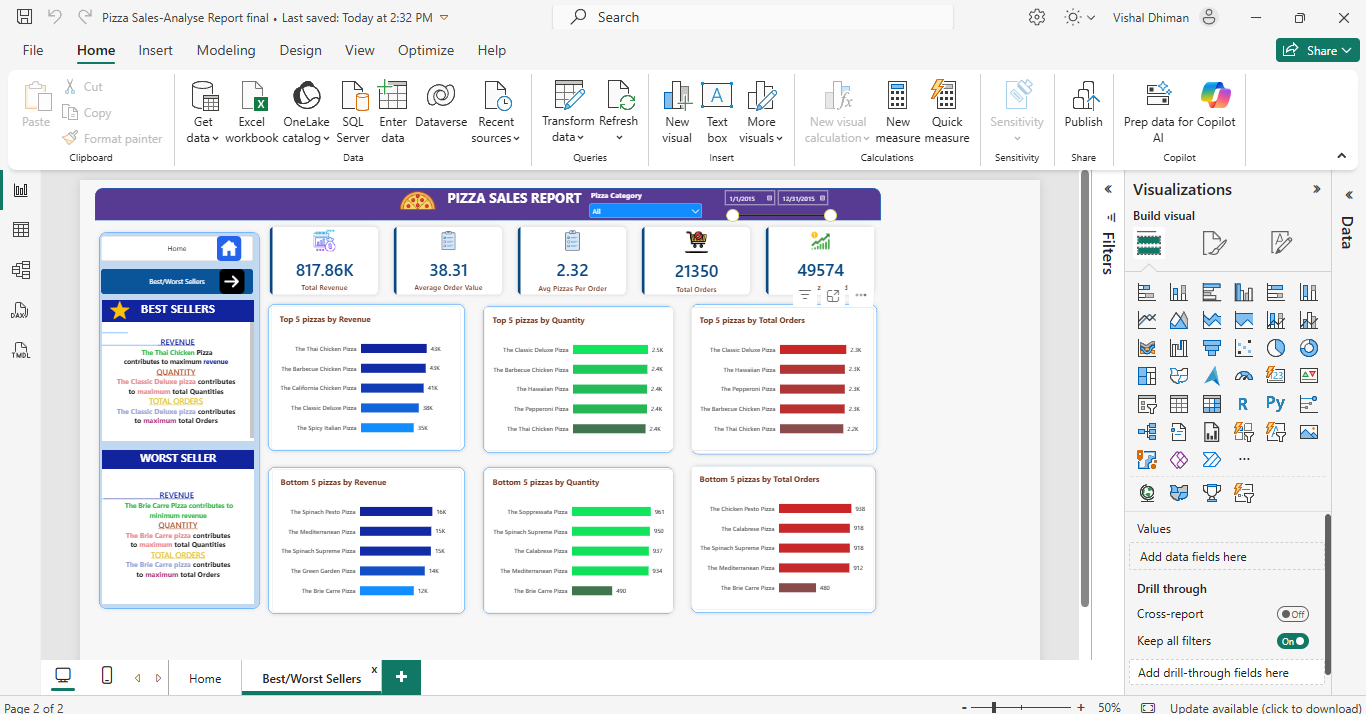

Layout of this report page (visuals, bound fields, positions):
{"tool":"powerbi","page":{"name":"Best/Worst Sellers","canvas":[1920,1080],"ordinal":1},"visuals":[{"type":"shape","box":[30,96,338.3,770],"z":0},{"type":"cardVisual","fields":{"Data":["pizza_sales.Total Revenue","pizza_sales.Average Order Value","pizza_sales.Avg Pizzas Per Order","pizza_sales.Total Orers","pizza_sales.Total Pizza Sold"]},"box":[368.3,81.7,1232.9,159],"z":1000},{"type":"shape","box":[30,16.7,1571.7,65],"z":2000},{"type":"textbox","box":[723.3,16.7,290,56.7],"z":3000},{"type":"image","box":[628.3,0,94.8,81.6],"z":4000},{"type":"shape","box":[368.3,240,410,310],"z":5000},{"type":"shape","box":[1213.3,240,388.3,316.7],"z":6000},{"type":"shape","box":[368.6,565.7,410,310],"z":7000},{"type":"shape","box":[798,566,397.1,310],"z":8000},{"type":"shape","box":[1214,564,386.2,310],"z":9000},{"type":"textbox","box":[44,240,304,44],"z":10000},{"type":"textbox","box":[44,284,304,238],"z":11000},{"type":"textbox","box":[44,540,304,38],"z":12000},{"type":"textbox","box":[44,578,304,270],"z":13000},{"type":"slicer","fields":{"Values":["pizza_sales.pizza_category"]},"box":[1013.3,20,235,60],"z":14000},{"type":"slicer","fields":{"Values":["pizza_sales.order_date"]},"box":[1281.7,16.7,235,70],"z":15000},{"type":"shape","box":[798.3,243.3,396.7,310],"z":16000},{"type":"barChart","title":"Top 5 pizzas by Revenue","fields":{"Category":["pizza_sales.pizza_name"],"Y":["pizza_sales.Total Revenue"]},"box":[382.9,252.9,378.6,287.1],"z":17000},{"type":"barChart","title":"Bottom 5 pizzas by Revenue","fields":{"Category":["pizza_sales.pizza_name"],"Y":["pizza_sales.Total Revenue"]},"box":[384.3,577.1,378.6,287.1],"z":18000},{"type":"barChart","title":"Top 5 pizzas by Quantity","fields":{"Category":["pizza_sales.pizza_name"],"Y":["pizza_sales.Total Pizzas Sold"]},"box":[807.1,254.3,378.6,287.1],"z":19000},{"type":"barChart","title":"Bottom 5 pizzas by Quantity","fields":{"Category":["pizza_sales.pizza_name"],"Y":["pizza_sales.Total Pizzas Sold"]},"box":[807.1,577.1,378.6,287.1],"z":20000},{"type":"barChart","title":"Top 5 pizzas by Total Orders","fields":{"Category":["pizza_sales.pizza_name"],"Y":["pizza_sales.Total Orders"]},"box":[1222.9,254.3,365.7,287.1],"z":21000},{"type":"barChart","title":"Bottom 5 pizzas by Total Orders","fields":{"Category":["pizza_sales.pizza_name"],"Y":["pizza_sales.Total Orders"]},"box":[1222.9,572.9,365.7,287.1],"z":22000},{"type":"pageNavigator","box":[42.9,177.1,304.3,50],"z":23000},{"type":"pageNavigator","box":[42.9,111.4,304.3,50],"z":24000},{"type":"image","box":[272.9,111.4,52.9,50],"z":25000},{"type":"image","box":[272.9,177.1,64.3,50],"z":26000},{"type":"image","box":[55.7,240,47.1,44.3],"z":27000}]}

Visuals, with their boxes on the page's 1920x1080 design canvas (x1, y1, x2, y2). These are canvas units, not pixel positions in the 1366x714 screenshot, which may show the page scaled, cropped or inside an application window:
shape: [30, 96, 368, 866]
cardVisual - pizza_sales.Total Revenue x pizza_sales.Average Order Value: [368, 82, 1601, 241]
shape: [30, 17, 1602, 82]
textbox: [723, 17, 1013, 73]
image: [628, 0, 723, 82]
shape: [368, 240, 778, 550]
shape: [1213, 240, 1602, 557]
shape: [369, 566, 779, 876]
shape: [798, 566, 1195, 876]
shape: [1214, 564, 1600, 874]
textbox: [44, 240, 348, 284]
textbox: [44, 284, 348, 522]
textbox: [44, 540, 348, 578]
textbox: [44, 578, 348, 848]
slicer - pizza_sales.pizza_category: [1013, 20, 1248, 80]
slicer - pizza_sales.order_date: [1282, 17, 1517, 87]
shape: [798, 243, 1195, 553]
"Top 5 pizzas by Revenue" barChart: [383, 253, 762, 540]
"Bottom 5 pizzas by Revenue" barChart: [384, 577, 763, 864]
"Top 5 pizzas by Quantity" barChart: [807, 254, 1186, 541]
"Bottom 5 pizzas by Quantity" barChart: [807, 577, 1186, 864]
"Top 5 pizzas by Total Orders" barChart: [1223, 254, 1589, 541]
"Bottom 5 pizzas by Total Orders" barChart: [1223, 573, 1589, 860]
pageNavigator: [43, 177, 347, 227]
pageNavigator: [43, 111, 347, 161]
image: [273, 111, 326, 161]
image: [273, 177, 337, 227]
image: [56, 240, 103, 284]
